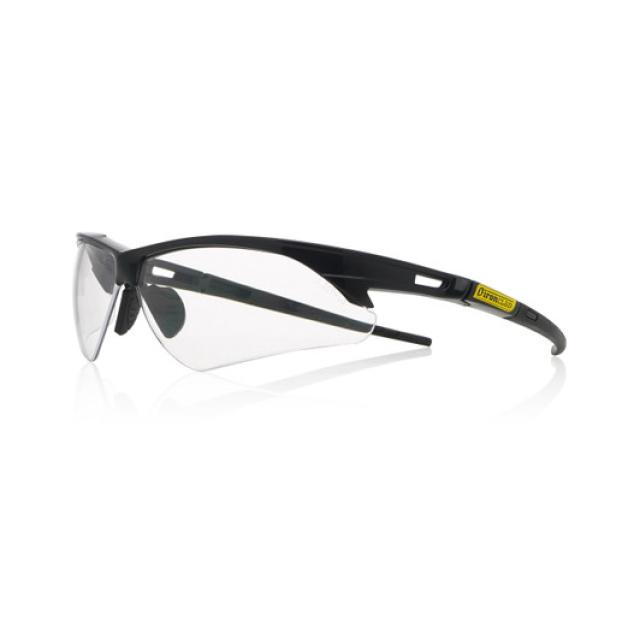goggles: (36, 212, 578, 401)
